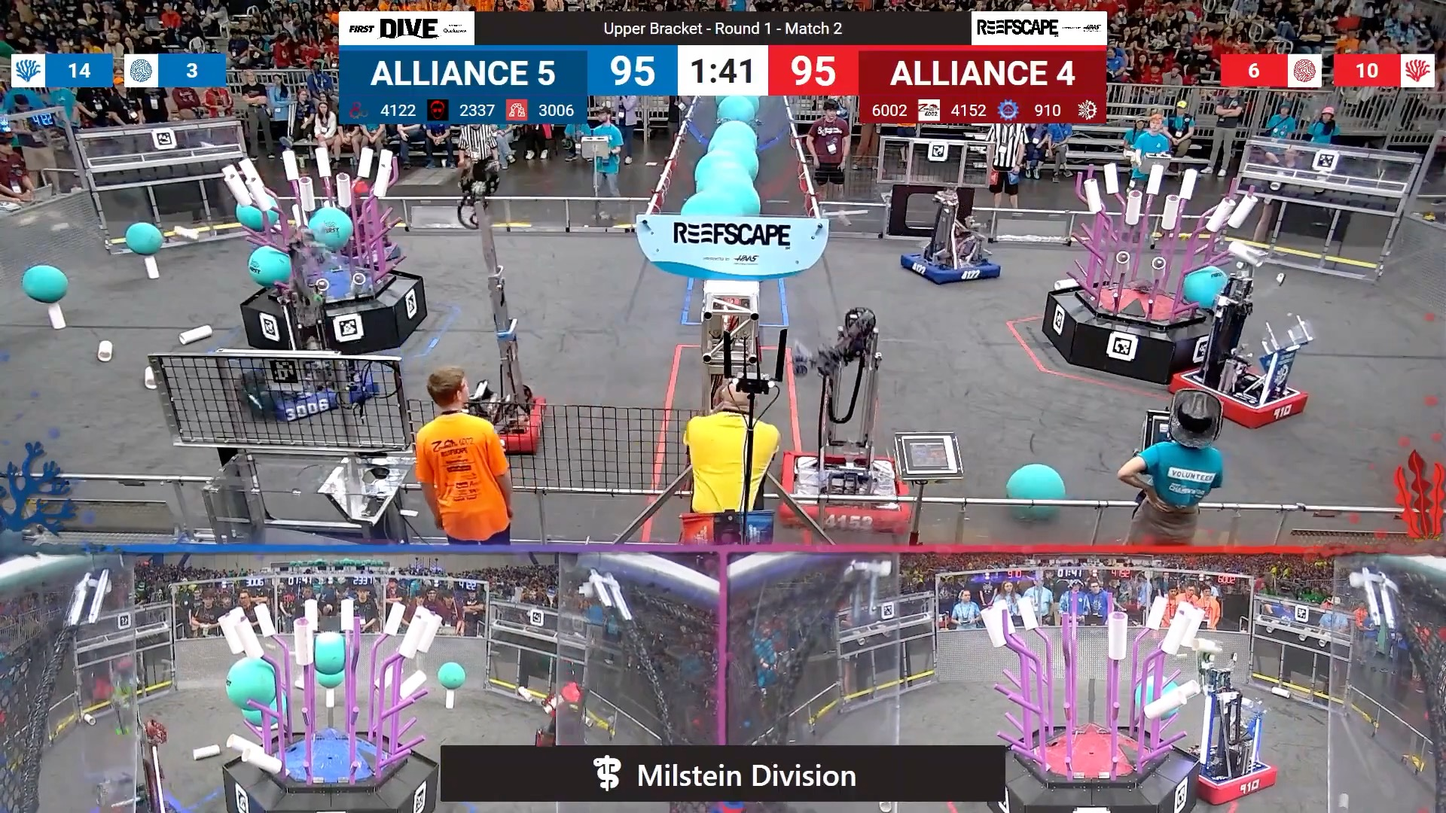bumpers: (776, 454, 914, 536), (236, 359, 379, 425), (1170, 371, 1316, 434), (460, 393, 554, 455), (1177, 753, 1283, 804), (891, 249, 1006, 288), (80, 789, 194, 812)
